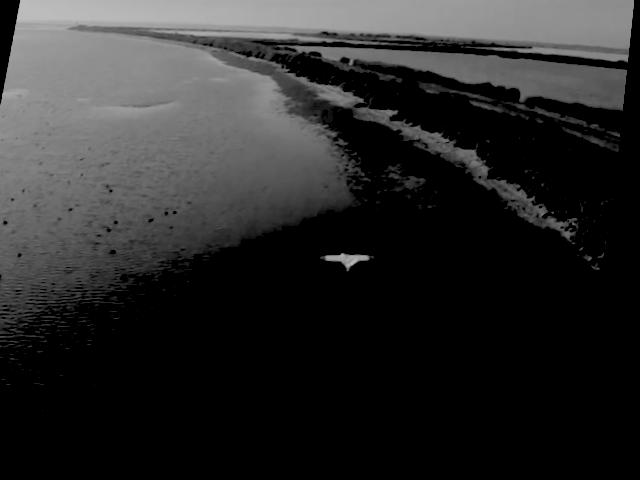hedef: (303, 246, 403, 290)
